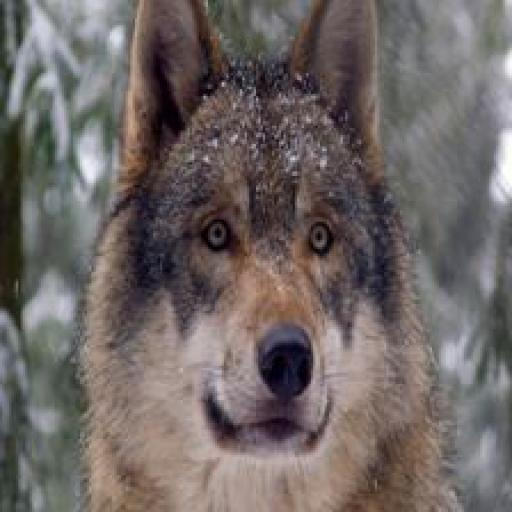wolf: (62, 0, 468, 512)
